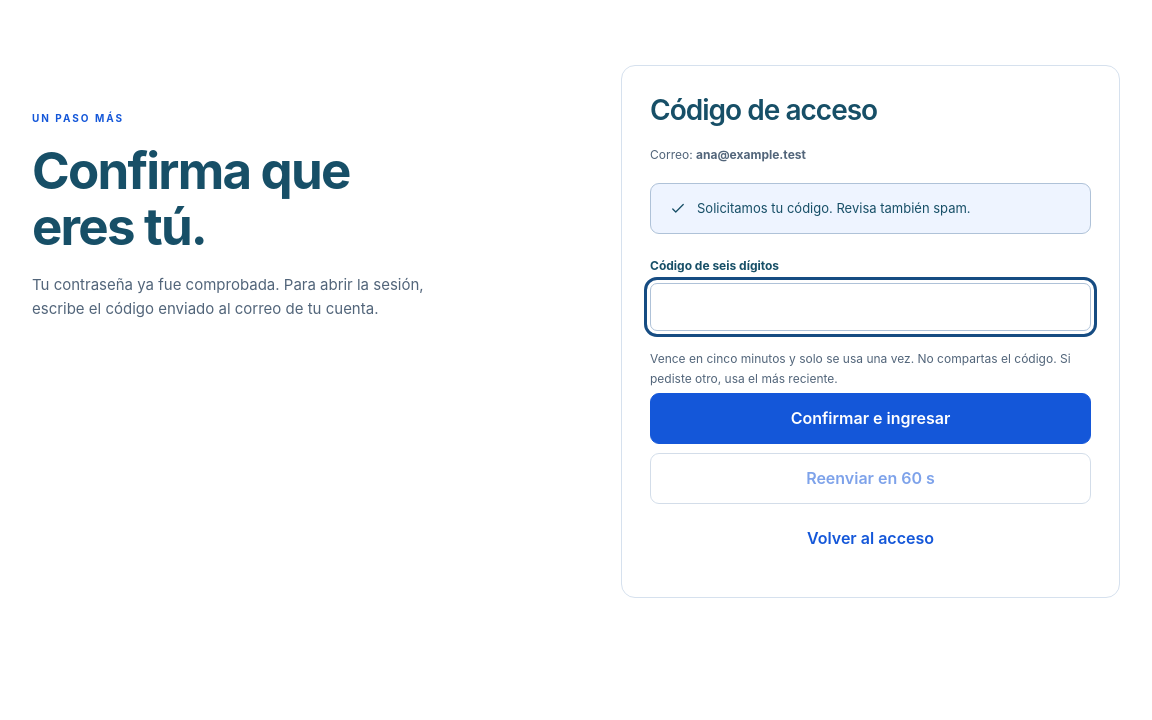
Test: un código rechazado mantiene el formulario y no abre sesión
In the field labelled "Código de seis dígitos": (870, 307) [650,283,1091,331], type "654321"
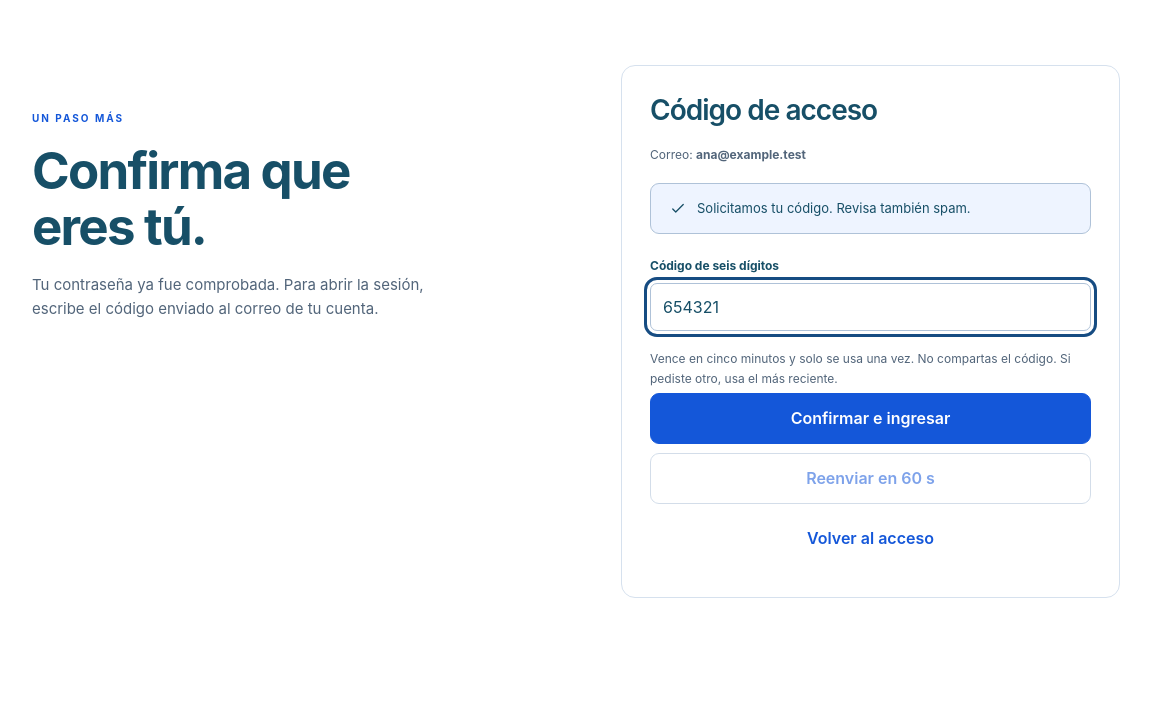
Click the button "Confirmar e ingresar": (870, 419) [650,394,1091,444]
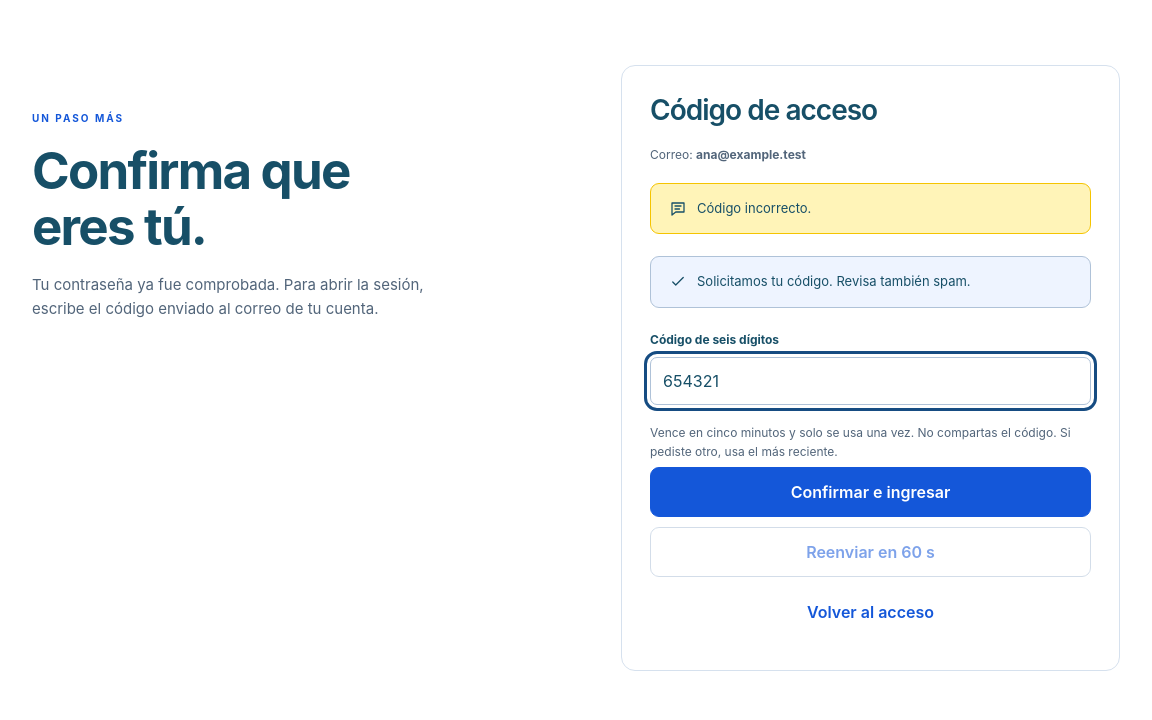
Expected: the button "Reenviar en 60 s" is disabled, [650,527,1091,577]
Now the text "Código incorrecto." is shown, box [697,198,811,219]
